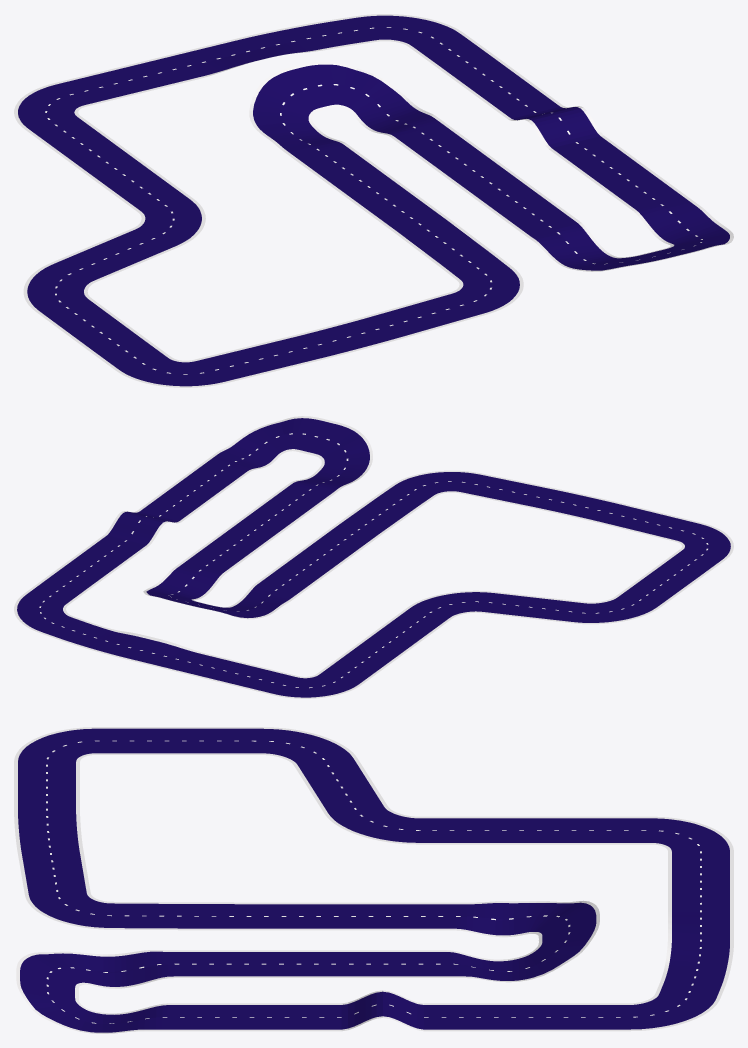
The model's file is Arbeitsuftrag2Assets.fbx.
The picture shows the model from 3 angles, top to bottom: view 1: azimuth 30°, elevation 25°; view 2: azimuth 150°, elevation 25°; view 3: azimuth 270°, elevation 25°; orthographic projection. The views are drawn at different scales.
Visible parts, largest first — view 1: Plane.001; view 2: Plane.001; view 3: Plane.001.
Part boxes in pixels (x1=…): Plane.001: x1=14, y1=14, x2=733, y2=387; Plane.001: x1=14, y1=416, x2=733, y2=698; Plane.001: x1=14, y1=727, x2=733, y2=1033.
Size of the model in its own units: 1744 by 88.75 by 1744.
